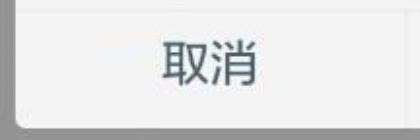Button: (1, 1, 419, 139)
